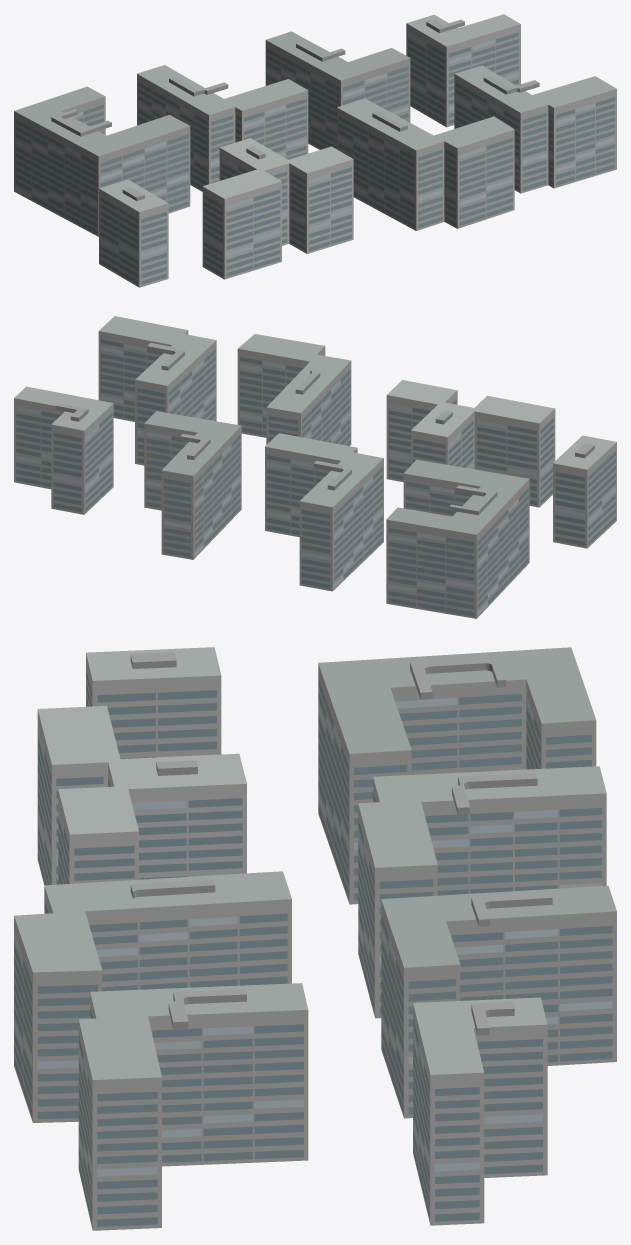
File: apt-a12204003.glb
3 renders of one model, top to bottom at view 1: azimuth 30°, elevation 25°; view 2: azimuth 150°, elevation 25°; view 3: azimuth 270°, elevation 25°, orthographic. The views are drawn at different scales.
Parts seen in each view (by area): view 1: apt-a12204003; view 2: apt-a12204003; view 3: apt-a12204003.
Part boxes in pixels (x1=…): apt-a12204003: x1=14, y1=14, x2=616, y2=287; apt-a12204003: x1=14, y1=316, x2=616, y2=618; apt-a12204003: x1=14, y1=647, x2=616, y2=1230.
Size of the model in its own units: 192 by 32 by 111.
